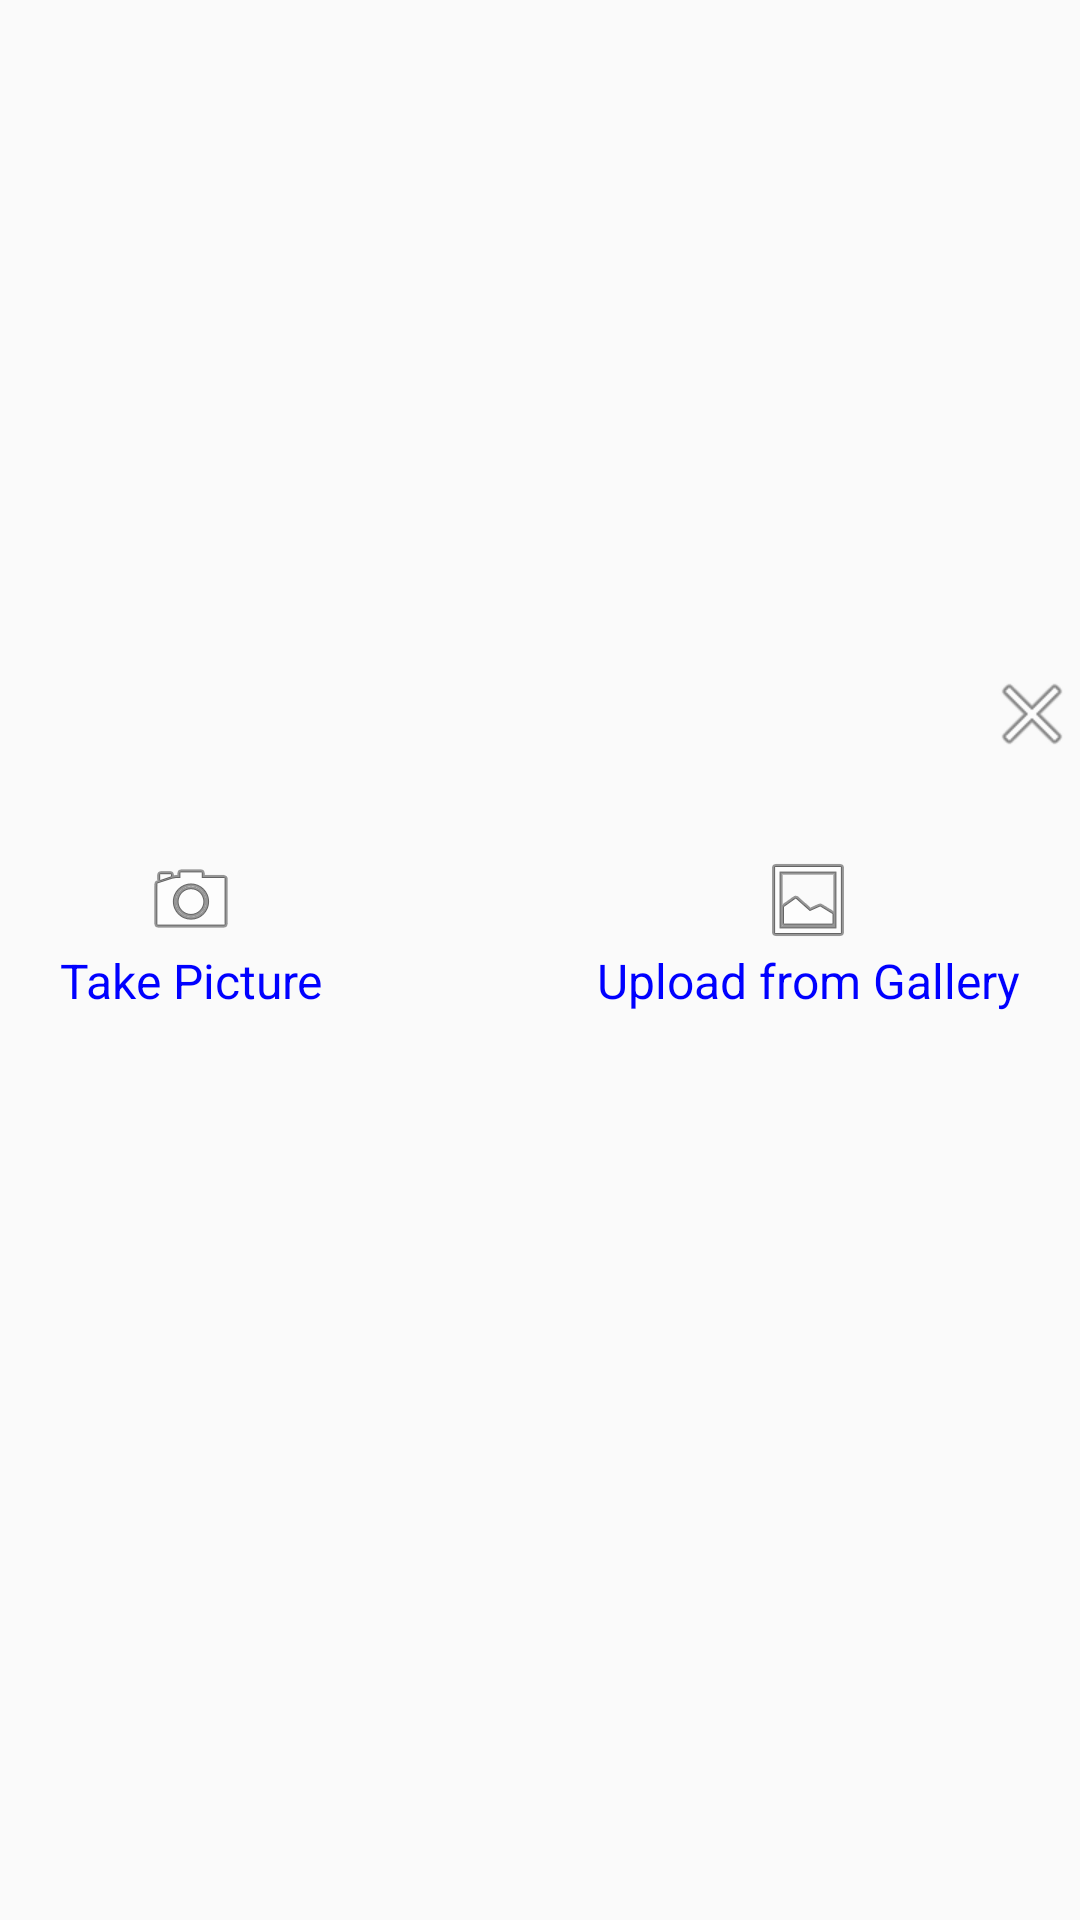

Point at icon controls on the screen. Image size 1080 × 1920, points as point (x, y).
close clear cancel: point (1032, 714)
